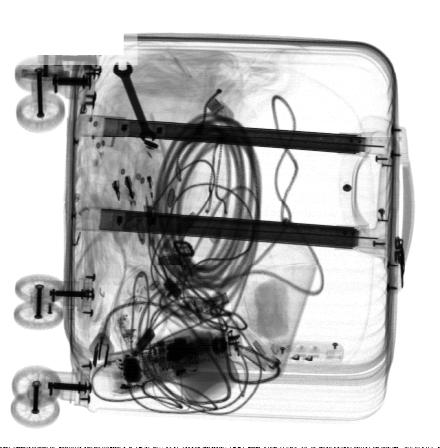Wrench: (113, 61, 157, 142)
